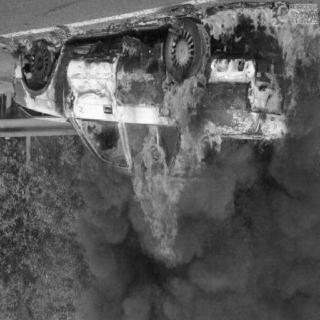Fire: (81, 9, 313, 255)
